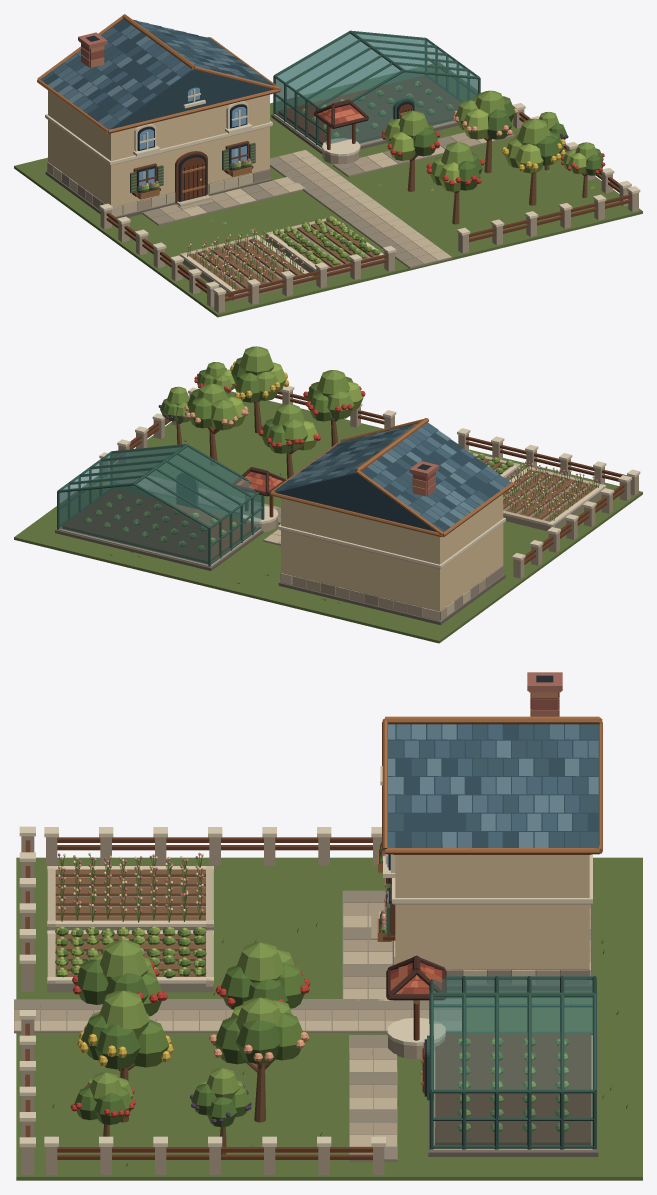
Rendered from farm-nivel-8.glb.
3 views of the same model, one above another, from view 1: azimuth 30°, elevation 25°; view 2: azimuth 150°, elevation 25°; view 3: azimuth 270°, elevation 25° (orthographic). The views are drawn at different scales.
Parts seen in each view (by area): view 1: Fazenda 08 #677a42, Fazenda 08 #57928c, Fazenda 08 #dec49a, Fazenda 08 #b4a38a, Fazenda 08 #344d58, Fazenda 08 #9b8f7c, Fazenda 08 #e6d7ba, Fazenda 08 #70432c, Fazenda 08 #cebea0, Fazenda 08 #385c50, Fazenda 08 #7a9448, Fazenda 08 #6d4733 (+18 smaller); view 2: Fazenda 08 #677a42, Fazenda 08 #dec49a, Fazenda 08 #57928c, Fazenda 08 #344d58, Fazenda 08 #6d4733, Fazenda 08 #b4a38a, Fazenda 08 #385c50, Fazenda 08 #7a9448, Fazenda 08 #65823d, Fazenda 08 #e6d7ba, Fazenda 08 #70432c, Fazenda 08 #a76e42 (+14 smaller); view 3: Fazenda 08 #677a42, Fazenda 08 #57928c, Fazenda 08 #dec49a, Fazenda 08 #b4a38a, Fazenda 08 #6d4733, Fazenda 08 #567337, Fazenda 08 #9b8f7c, Fazenda 08 #e6d7ba, Fazenda 08 #385c50, Fazenda 08 #7a9448, Fazenda 08 #886345, Fazenda 08 #cebea0 (+14 smaller).
Boxes of the visible parts, left/top/right/bottom form: Fazenda 08 #677a42: left=14, top=62, right=642, bottom=317; Fazenda 08 #57928c: left=275, top=33, right=477, bottom=145; Fazenda 08 #dec49a: left=48, top=90, right=269, bottom=207; Fazenda 08 #b4a38a: left=46, top=109, right=638, bottom=313; Fazenda 08 #344d58: left=43, top=19, right=274, bottom=129; Fazenda 08 #9b8f7c: left=61, top=134, right=514, bottom=300; Fazenda 08 #e6d7ba: left=45, top=89, right=640, bottom=295; Fazenda 08 #70432c: left=106, top=96, right=630, bottom=301; Fazenda 08 #cebea0: left=47, top=138, right=496, bottom=295; Fazenda 08 #385c50: left=273, top=30, right=480, bottom=147; Fazenda 08 #7a9448: left=223, top=81, right=610, bottom=264; Fazenda 08 #6d4733: left=278, top=75, right=460, bottom=145; Fazenda 08 #677a42: left=14, top=391, right=642, bottom=643; Fazenda 08 #dec49a: left=281, top=494, right=503, bottom=611; Fazenda 08 #57928c: left=59, top=446, right=261, bottom=564; Fazenda 08 #344d58: left=275, top=427, right=504, bottom=531; Fazenda 08 #6d4733: left=62, top=489, right=256, bottom=563; Fazenda 08 #b4a38a: left=56, top=390, right=638, bottom=621; Fazenda 08 #385c50: left=57, top=444, right=264, bottom=566; Fazenda 08 #7a9448: left=85, top=346, right=513, bottom=600; Fazenda 08 #65823d: left=84, top=372, right=599, bottom=603; Fazenda 08 #e6d7ba: left=99, top=386, right=640, bottom=568; Fazenda 08 #70432c: left=113, top=391, right=627, bottom=564; Fazenda 08 #a76e42: left=270, top=418, right=514, bottom=537; Fazenda 08 #677a42: left=16, top=857, right=642, bottom=1180; Fazenda 08 #57928c: left=433, top=978, right=592, bottom=1144; Fazenda 08 #dec49a: left=395, top=855, right=589, bottom=969; Fazenda 08 #b4a38a: left=14, top=836, right=596, bottom=1174; Fazenda 08 #6d4733: left=435, top=1033, right=591, bottom=1145; Fazenda 08 #567337: left=57, top=926, right=568, bottom=1131; Fazenda 08 #9b8f7c: left=14, top=872, right=590, bottom=1161; Fazenda 08 #e6d7ba: left=19, top=766, right=592, bottom=1147; Fazenda 08 #385c50: left=427, top=976, right=596, bottom=1149; Fazenda 08 #7a9448: left=52, top=927, right=627, bottom=1166; Fazenda 08 #886345: left=55, top=869, right=205, bottom=976; Fazenda 08 #cebea0: left=14, top=866, right=590, bottom=1146.
Bounding box in the file's own units: 17.81 × 5.67 × 14.84.
